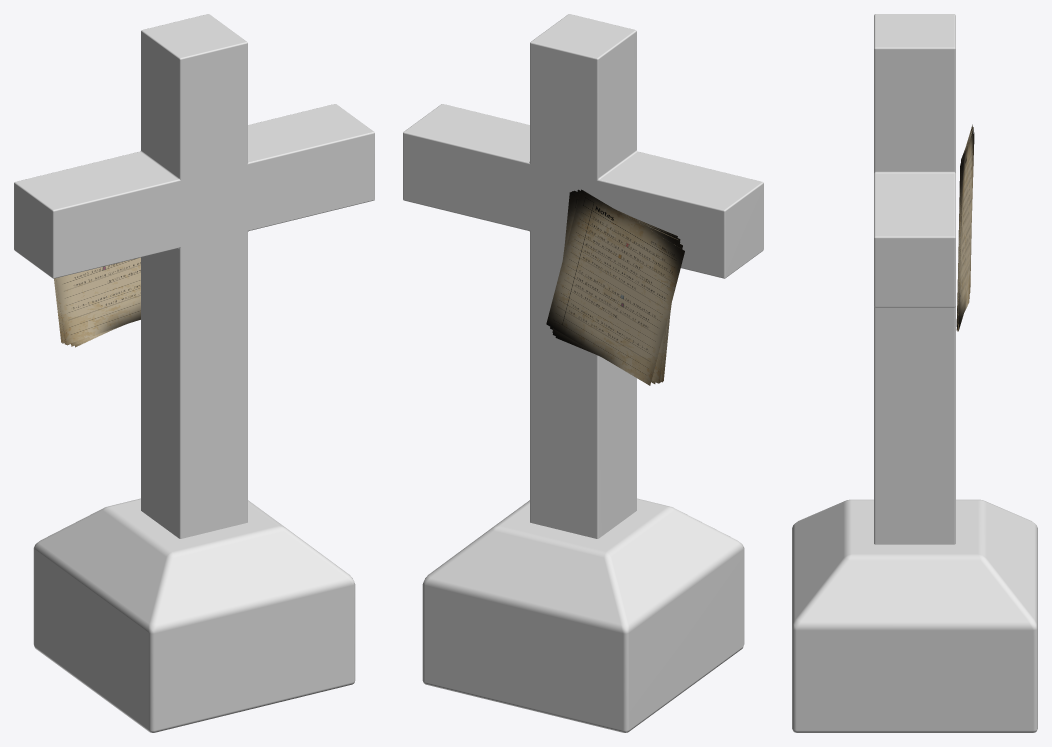
Rendered from Kuburan + Notes .fbx.
The picture shows the model from 3 angles, left to right: view 1: azimuth 30°, elevation 25°; view 2: azimuth 150°, elevation 25°; view 3: azimuth 270°, elevation 25°; orthographic projection. The views are drawn at different scales.
Visible parts, largest first — view 1: Cube.002, Cube, Plane.001; view 2: Cube.002, Cube, Plane.001; view 3: Cube, Cube.002, Plane.001.
Boxes of the visible parts, x1=… form: Cube.002: x1=14, y1=14, x2=374, y2=538; Cube: x1=33, y1=498, x2=355, y2=732; Plane.001: x1=54, y1=257, x2=140, y2=347; Cube.002: x1=403, y1=14, x2=763, y2=538; Cube: x1=422, y1=498, x2=744, y2=732; Plane.001: x1=546, y1=189, x2=684, y2=385; Cube: x1=792, y1=499, x2=1037, y2=732; Cube.002: x1=874, y1=14, x2=955, y2=544; Plane.001: x1=956, y1=124, x2=974, y2=331.
Size of the model in its own units: 50.74 by 94.84 by 32.42.
